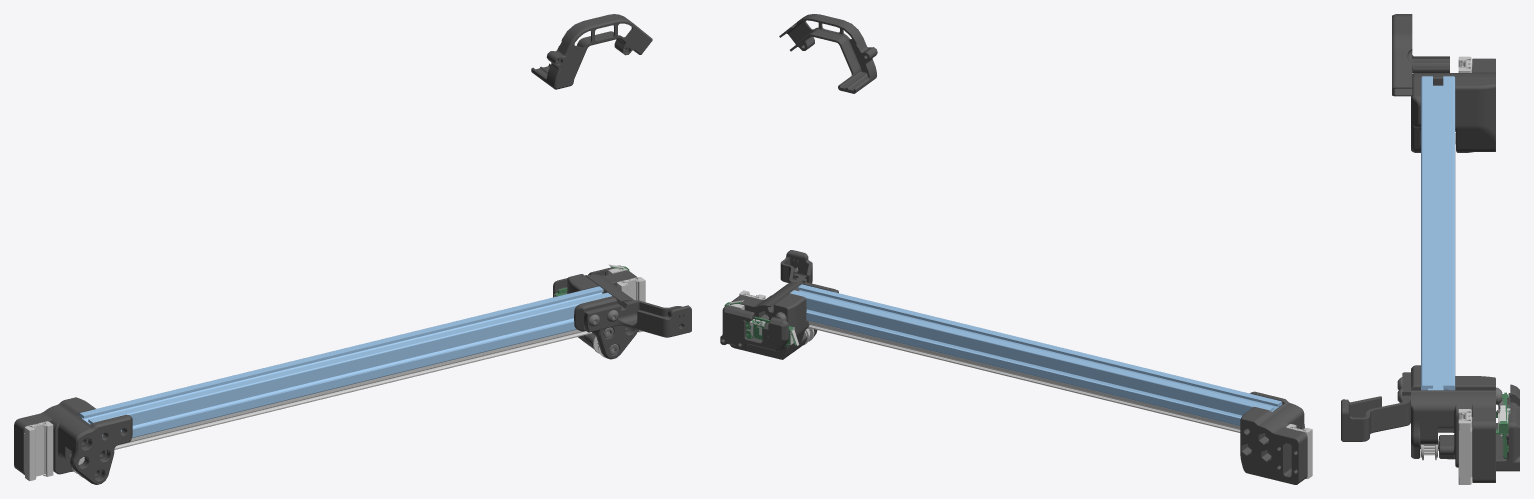
Rendered from beam.glb.
The picture shows the model from 3 angles, left to right: view 1: azimuth 30°, elevation 25°; view 2: azimuth 150°, elevation 25°; view 3: azimuth 270°, elevation 25°; orthographic projection. The views are drawn at different scales.
Bounding box in the file's own units: 511 × 274 × 105.
